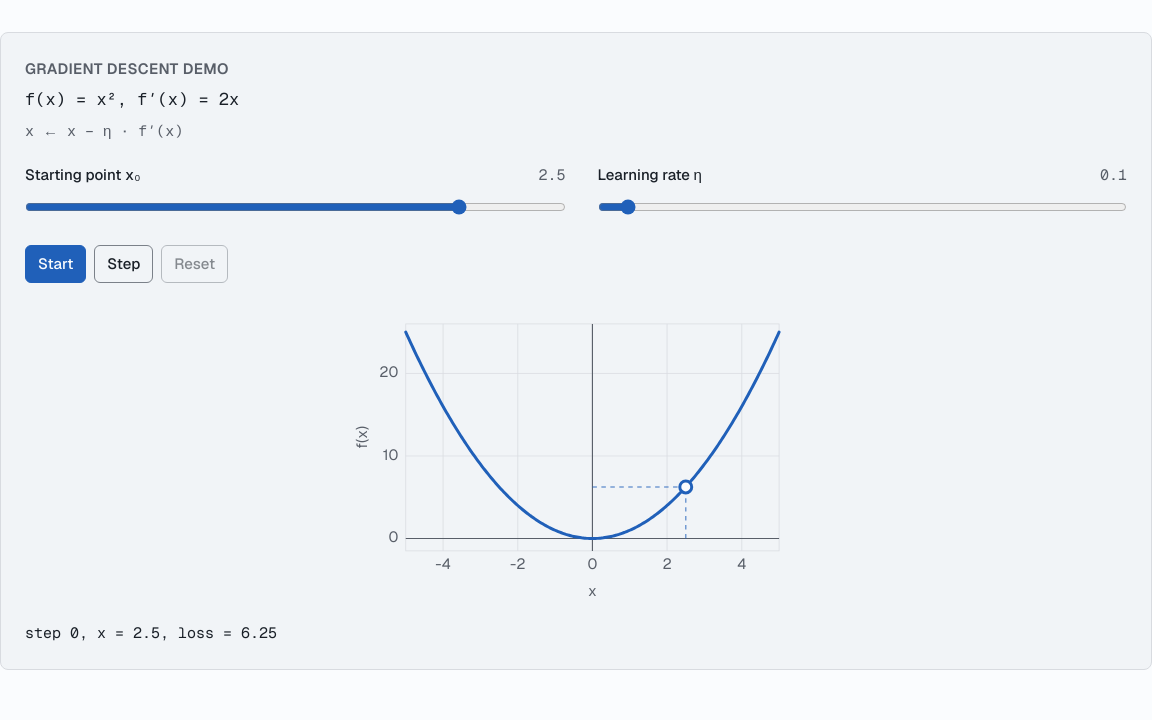
Scenario: GradientDescentDemo › restores the starting state on reset
The width and height of the screenshot is (1152, 720).
Step 1. Click the button "Step" → {"x": 124, "y": 264}, box [94,244,153,282]
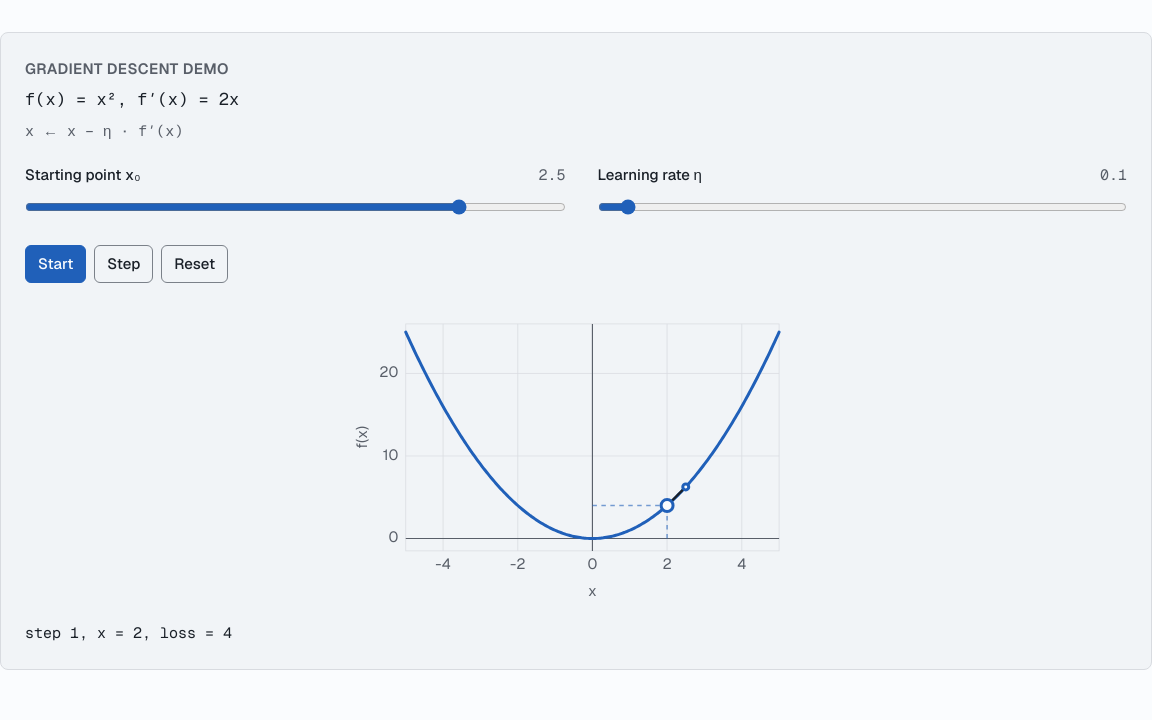
Step 2. Click the button "Step" → {"x": 124, "y": 264}, box [94,244,153,282]
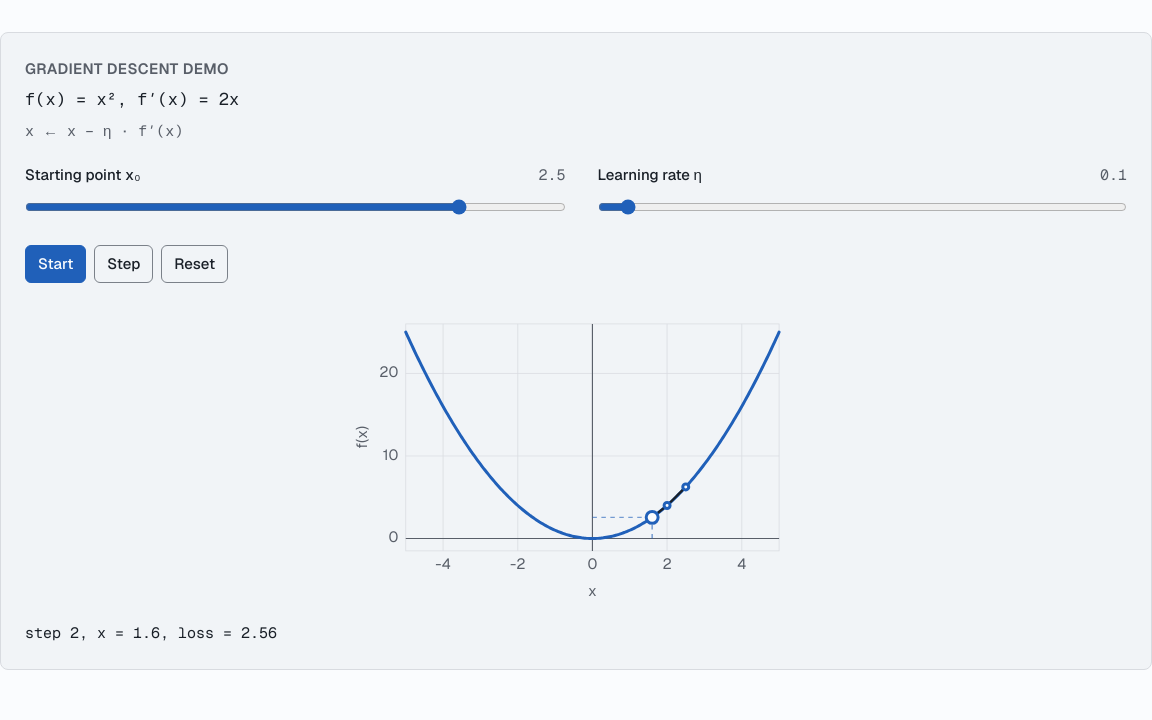
Step 3. Click the button "Reset" → {"x": 195, "y": 264}, box [161,244,228,282]
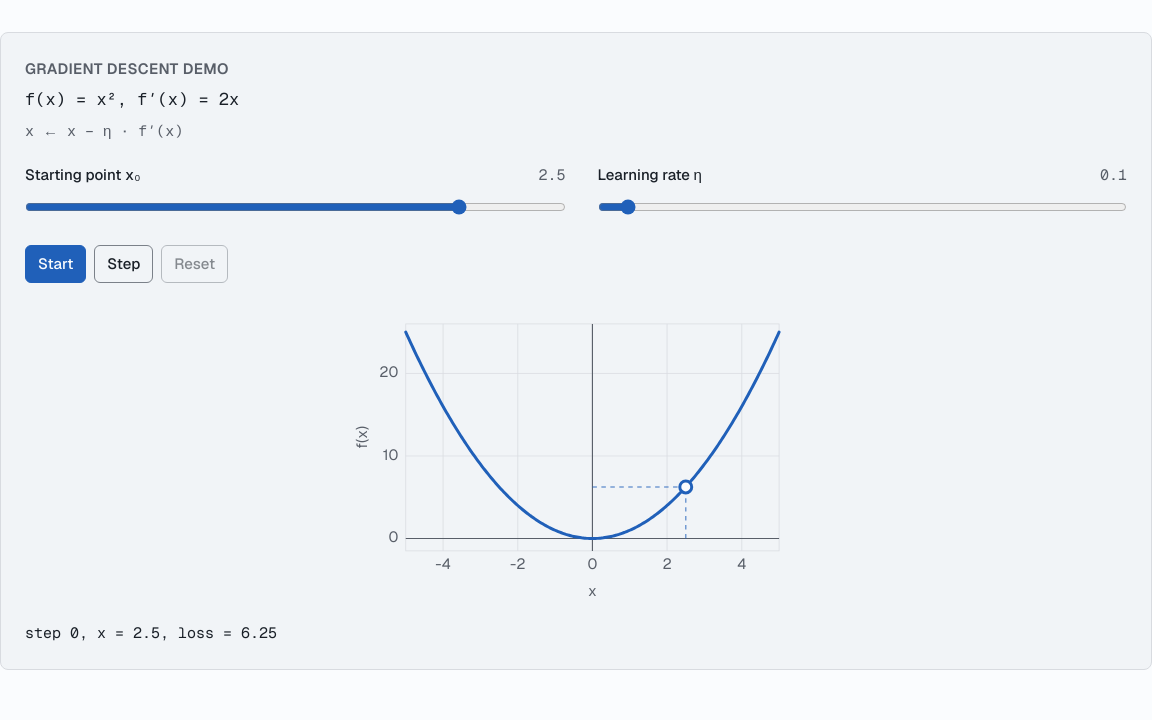
Expected: the button "Reset" is disabled, [161,244,228,282]
